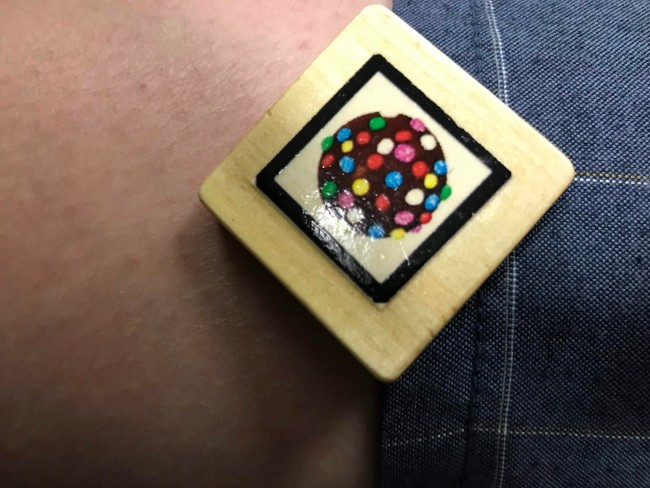cookie: (250, 49, 522, 319)
